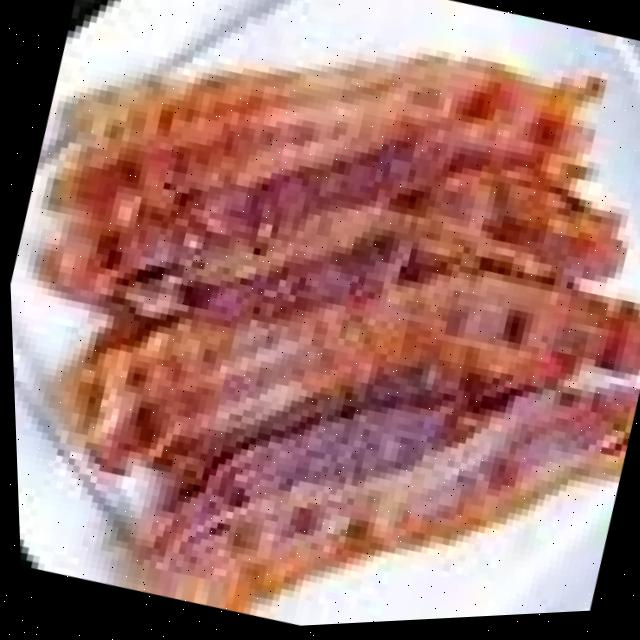Bacon: (168, 399, 634, 596)
